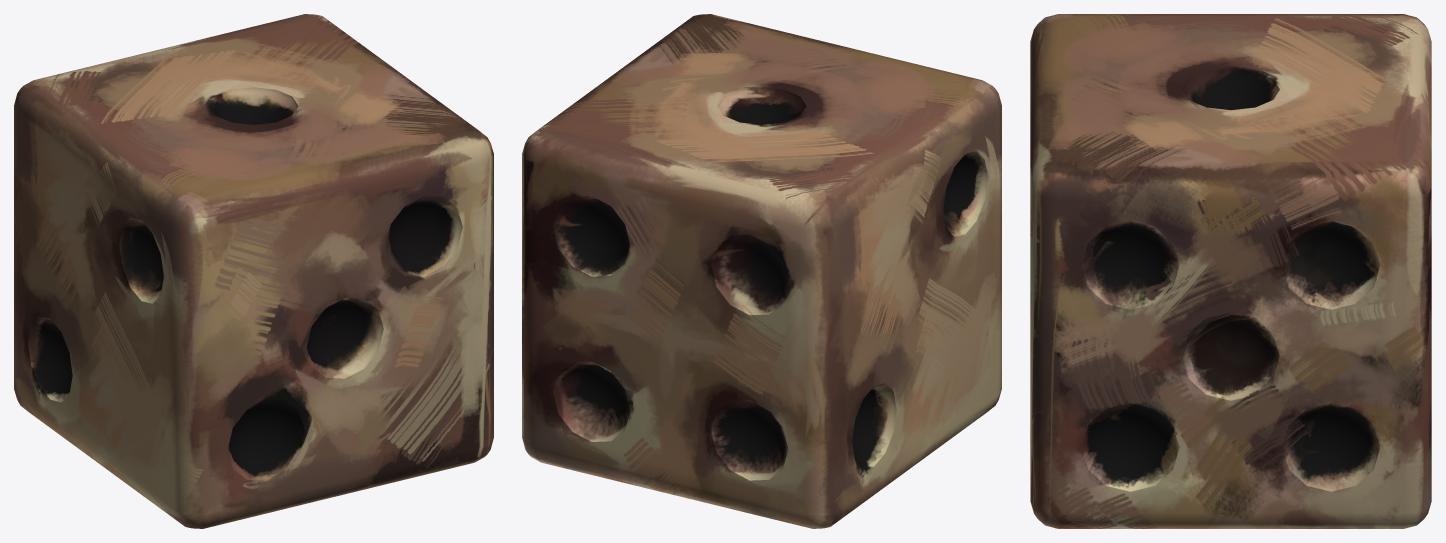
File: Dice.fbx
The picture shows the model from 3 angles, left to right: view 1: azimuth 30°, elevation 25°; view 2: azimuth 150°, elevation 25°; view 3: azimuth 270°, elevation 25°; orthographic projection. The views are drawn at different scales.
Visible parts, largest first — view 1: Dice; view 2: Dice; view 3: Dice.
Boxes of the visible parts, x1=… form: Dice: x1=14, y1=14, x2=493, y2=528; Dice: x1=522, y1=14, x2=1001, y2=528; Dice: x1=1030, y1=14, x2=1431, y2=528.
Size of the model in its own units: 100 by 100 by 100.
1 material, 1 textured.
